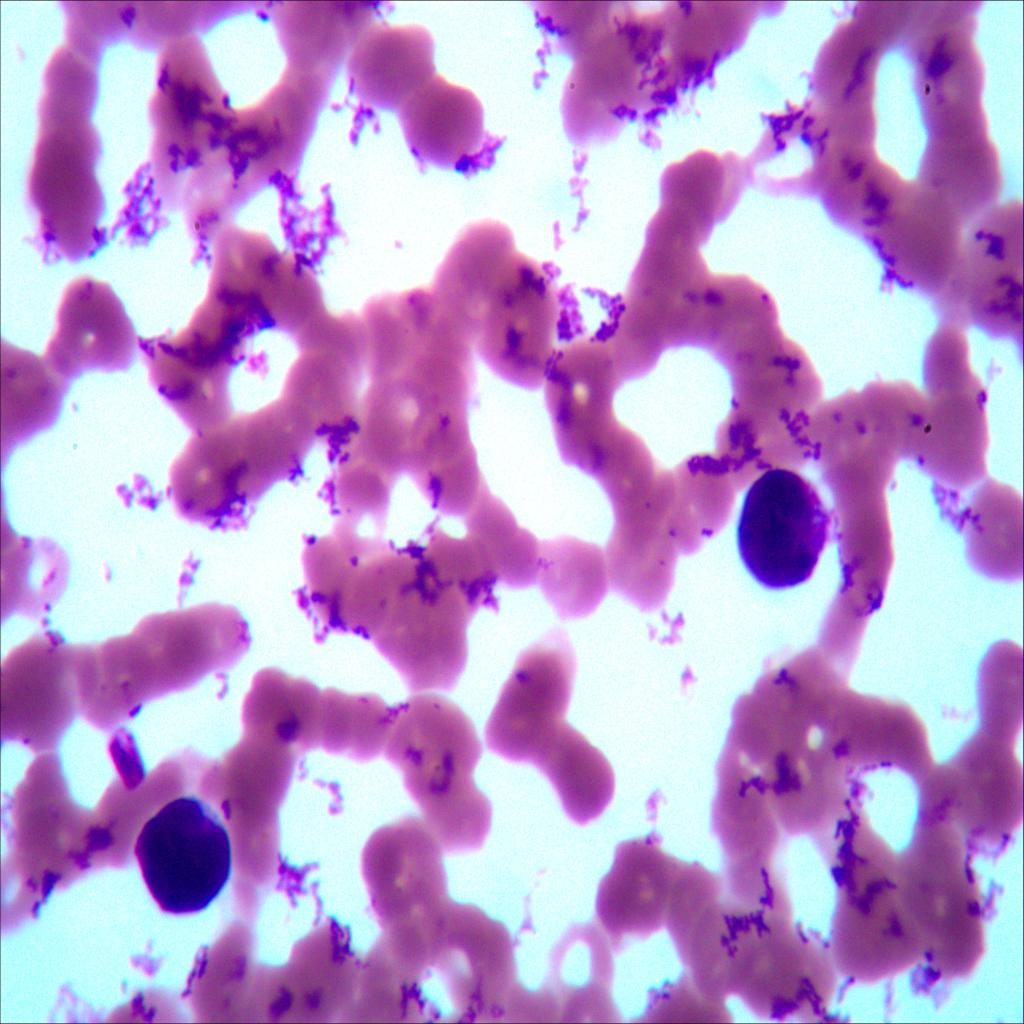Limfoblast: (730, 448, 831, 607), (126, 794, 240, 933)
